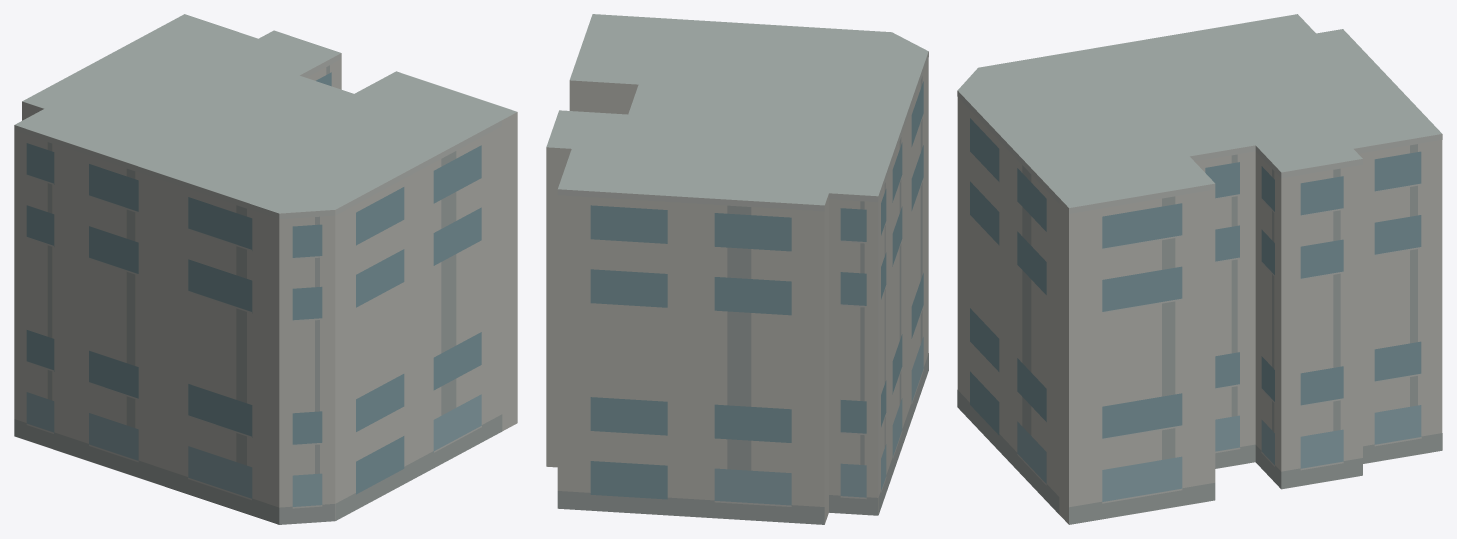
Rendered from survey-upis-32842449.glb.
The picture shows the model from 3 angles, left to right: view 1: azimuth 30°, elevation 25°; view 2: azimuth 150°, elevation 25°; view 3: azimuth 270°, elevation 25°; orthographic projection. The views are drawn at different scales.
Parts seen in each view (by area): view 1: survey-upis-32842449.tmp; view 2: survey-upis-32842449.tmp; view 3: survey-upis-32842449.tmp.
Boxes of the visible parts, x1=… form: survey-upis-32842449.tmp: x1=14, y1=14, x2=517, y2=524; survey-upis-32842449.tmp: x1=546, y1=14, x2=928, y2=524; survey-upis-32842449.tmp: x1=957, y1=14, x2=1442, y2=524.
Bounding box in the file's own units: 16.83 × 12.8 × 17.77.
